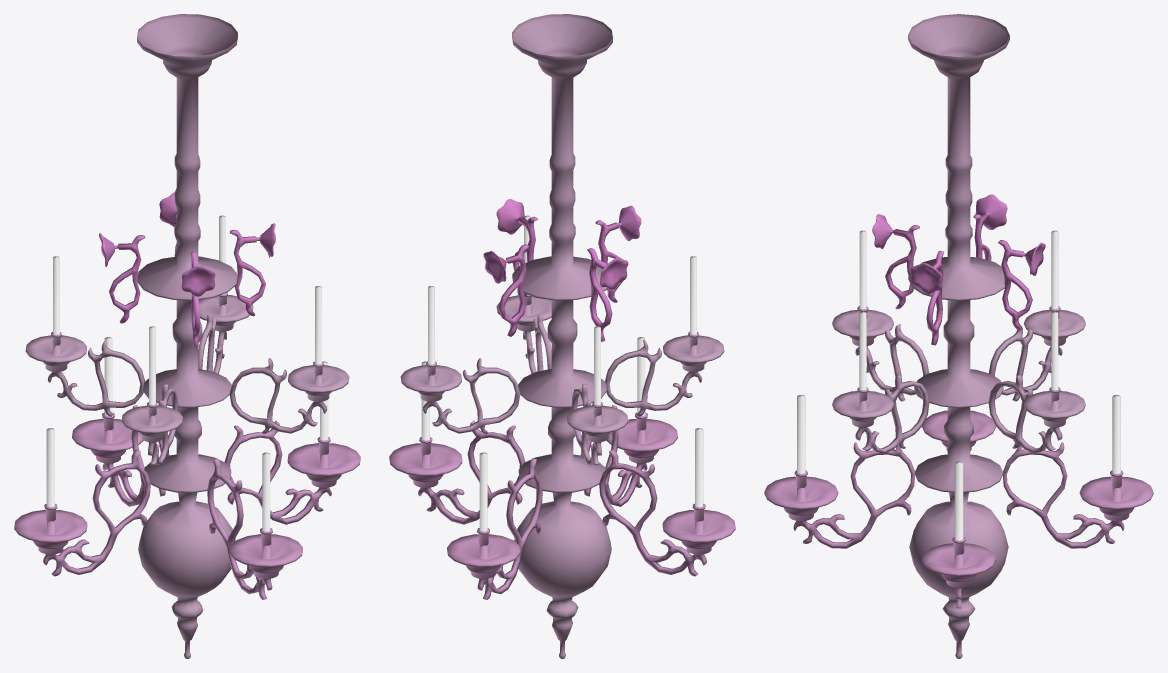
File: barbie candelabro.fbx
The picture shows the model from 3 angles, left to right: view 1: azimuth 30°, elevation 25°; view 2: azimuth 150°, elevation 25°; view 3: azimuth 270°, elevation 25°; orthographic projection.
Visible parts, largest first — view 1: polySurface32, polySurface31, polySurface27, polySurface25, polySurface29, polySurface21, polySurface17, polySurface23, polySurface15, polySurface1, polySurface3, polySurface5 (+1 smaller); view 2: polySurface32, polySurface31, polySurface27, polySurface29, polySurface25, polySurface23, polySurface19, polySurface21, polySurface17, polySurface9, polySurface1, polySurface7 (+2 smaller); view 3: polySurface32, polySurface25, polySurface29, polySurface27, polySurface17, polySurface19, polySurface21, polySurface23, polySurface31, polySurface11, polySurface9, polySurface15 (+4 smaller).
Part boxes in pixels (x1,y1,x2,y2): polySurface32: (25,14,349,658); polySurface31: (14,449,150,576); polySurface27: (224,420,360,524); polySurface25: (207,458,302,599); polySurface29: (72,405,165,506); polySurface21: (181,252,215,346); polySurface17: (229,223,275,316); polySurface23: (99,233,145,323); polySurface15: (262,452,270,531); polySurface1: (46,428,54,507); polySurface3: (149,326,155,404); polySurface5: (315,286,321,364); polySurface32: (400,14,724,658); polySurface31: (599,449,735,576); polySurface27: (389,420,525,524); polySurface29: (447,458,542,599); polySurface25: (584,405,677,506); polySurface23: (587,248,628,341); polySurface19: (483,244,529,336); polySurface21: (595,205,641,302); polySurface17: (496,199,537,296); polySurface9: (479,452,487,531); polySurface1: (695,428,703,507); polySurface7: (428,286,434,364); polySurface32: (832,14,1085,658); polySurface25: (764,440,915,548); polySurface29: (1002,440,1153,548); polySurface27: (922,537,995,608); polySurface17: (910,251,943,345); polySurface19: (998,240,1045,330); polySurface21: (872,214,919,309); polySurface23: (973,194,1007,260); polySurface31: (922,410,995,450); polySurface11: (954,461,963,540); polySurface9: (1112,394,1120,473); polySurface15: (797,394,805,473).
Bounding box in the file's own units: 112 × 199 × 112.
